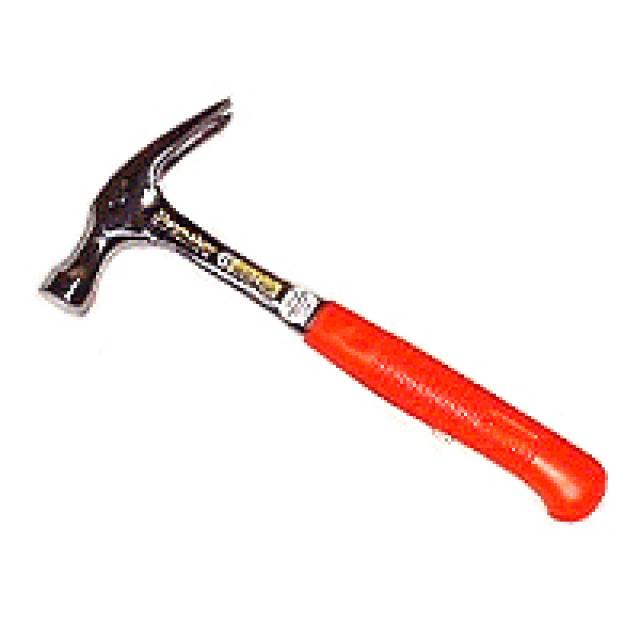hammer: (23, 90, 618, 540)
